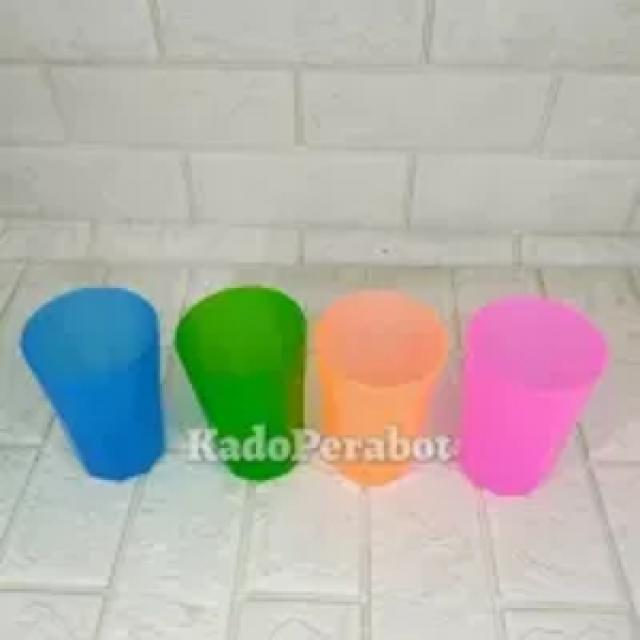plastic cup: (450, 290, 612, 504), (12, 275, 170, 484), (307, 279, 452, 493), (166, 282, 314, 480)
